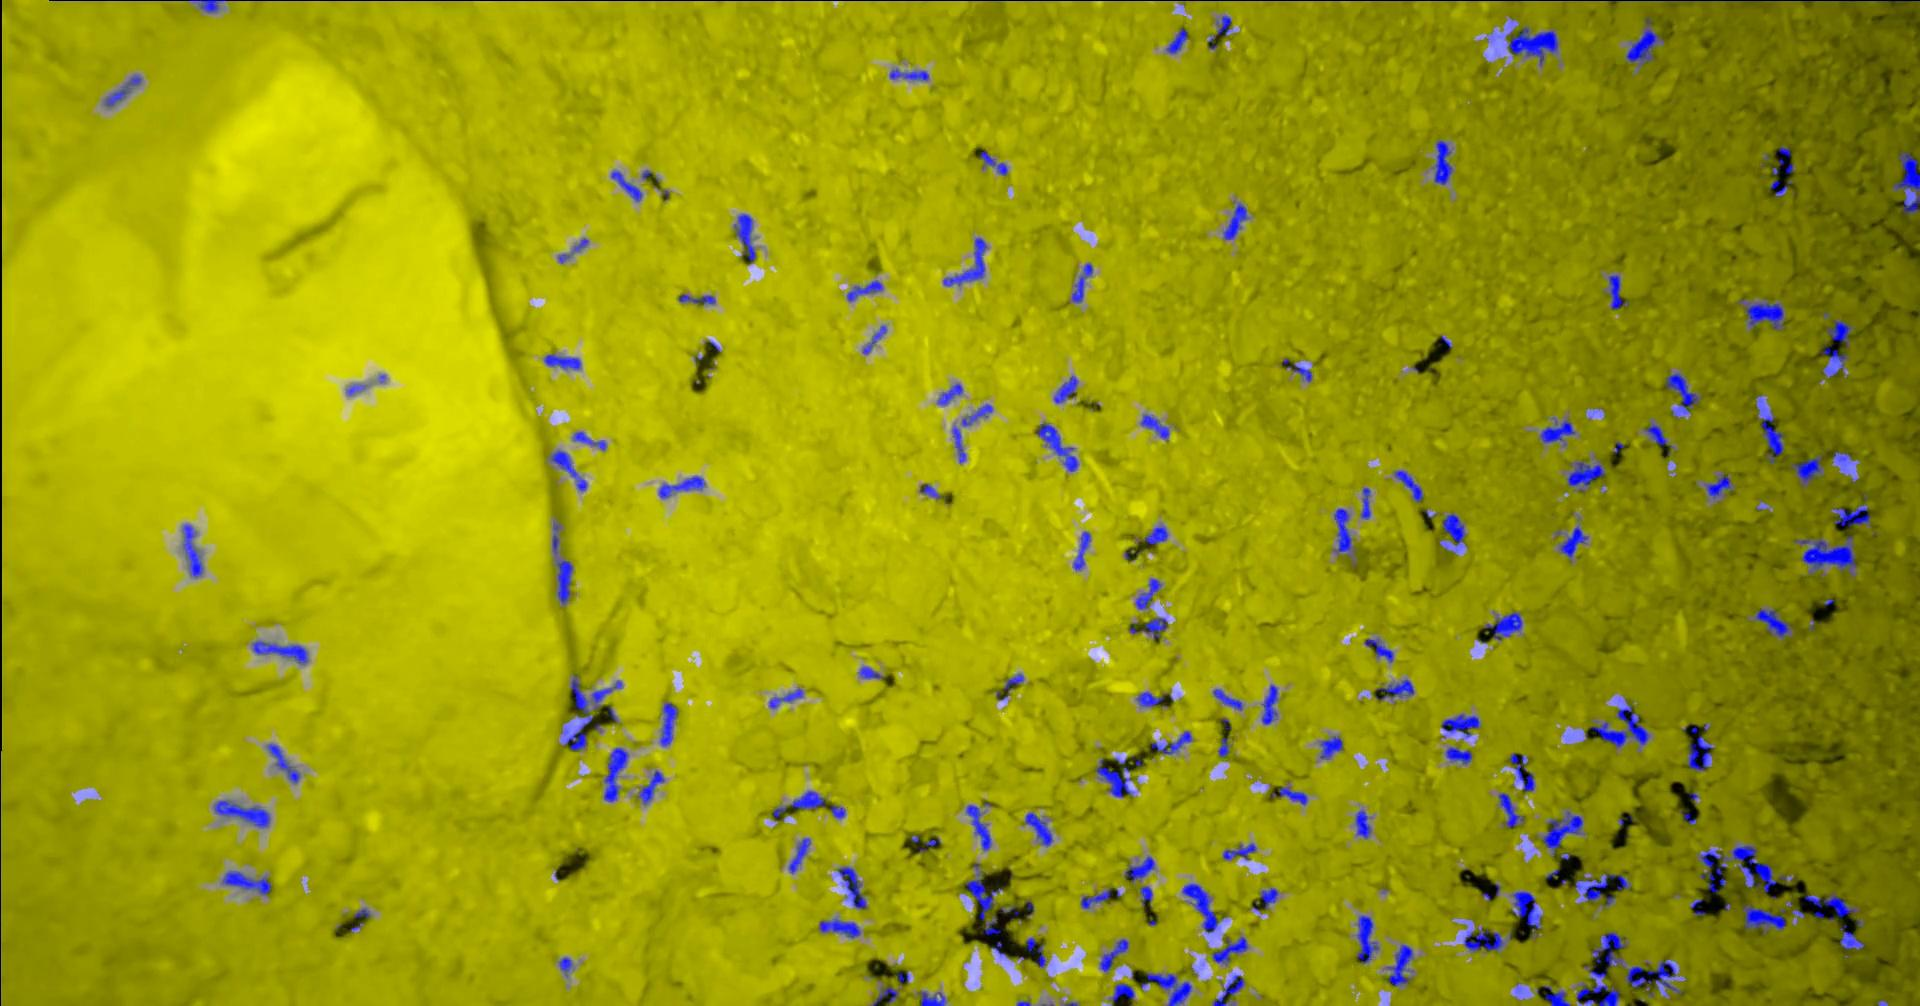ant: (1590, 702, 1650, 747), (564, 674, 593, 749), (1625, 958, 1681, 996), (1505, 27, 1558, 65), (965, 862, 1001, 920), (943, 238, 985, 285), (1037, 423, 1078, 471), (1181, 883, 1218, 932), (1625, 17, 1663, 64), (1542, 810, 1582, 854), (1575, 965, 1619, 1005), (1140, 972, 1191, 1005), (1892, 151, 1919, 213), (772, 790, 825, 821), (1575, 873, 1630, 901), (1803, 893, 1859, 921), (213, 800, 269, 827), (1665, 372, 1698, 417), (550, 450, 585, 490), (1095, 758, 1131, 796), (603, 747, 629, 801), (1511, 890, 1540, 937), (1742, 904, 1785, 934), (267, 743, 298, 782), (837, 866, 866, 908), (1760, 410, 1783, 464), (1591, 931, 1625, 967), (251, 641, 307, 663), (965, 804, 990, 850), (1483, 611, 1523, 640), (1385, 944, 1412, 986), (222, 871, 270, 894), (1755, 608, 1792, 638), (1743, 302, 1783, 329), (1789, 453, 1822, 485), (105, 75, 140, 105), (1688, 727, 1712, 770), (1356, 915, 1378, 963), (734, 213, 756, 260), (1211, 974, 1244, 1005), (1566, 461, 1605, 486), (1509, 752, 1534, 791), (1820, 340, 1848, 376), (1211, 936, 1247, 964), (1150, 730, 1191, 754), (1463, 927, 1503, 951), (610, 170, 641, 201), (183, 525, 202, 575), (1558, 525, 1587, 558), (1098, 937, 1128, 970), (658, 476, 703, 497), (1023, 812, 1051, 845), (590, 680, 621, 709), (1441, 713, 1479, 735), (1497, 793, 1523, 827), (1223, 203, 1247, 239), (1394, 470, 1422, 500), (1070, 263, 1092, 302), (1432, 140, 1451, 184), (637, 770, 663, 803), (1079, 888, 1120, 908), (1832, 504, 1870, 526), (1539, 419, 1575, 442), (846, 279, 883, 301), (1443, 513, 1464, 550), (1135, 578, 1161, 608), (1375, 680, 1413, 700), (1124, 856, 1154, 882), (819, 918, 860, 937), (1333, 508, 1351, 551), (555, 559, 571, 605), (1825, 319, 1853, 345), (978, 150, 1007, 175), (789, 838, 810, 873), (660, 702, 677, 746), (996, 673, 1023, 699), (1364, 638, 1393, 662), (961, 403, 992, 426), (1271, 786, 1307, 805), (862, 325, 886, 353), (1053, 375, 1077, 403), (1140, 414, 1168, 438), (1261, 683, 1277, 724), (1608, 274, 1627, 309), (1073, 531, 1090, 570), (1705, 474, 1732, 498), (1283, 358, 1310, 381), (770, 688, 803, 708), (1211, 688, 1242, 709), (1839, 923, 1863, 949), (1251, 887, 1277, 909), (1025, 937, 1045, 967), (571, 431, 604, 448), (543, 354, 580, 370), (1166, 28, 1187, 53), (1140, 617, 1167, 638), (1543, 984, 1570, 1005), (1319, 735, 1342, 758), (1222, 843, 1256, 859), (937, 384, 963, 404), (1111, 983, 1134, 1005), (1644, 423, 1666, 445), (1137, 691, 1167, 706), (872, 986, 897, 1005), (952, 427, 965, 462), (1445, 746, 1470, 763), (889, 69, 928, 80), (1777, 146, 1793, 173), (1355, 810, 1370, 838), (919, 483, 945, 499), (189, 0, 225, 11), (1144, 526, 1167, 544), (1769, 179, 1792, 196), (678, 293, 715, 304), (919, 991, 945, 1005), (1360, 486, 1370, 520), (983, 915, 999, 935), (858, 666, 883, 678), (917, 837, 938, 851), (1217, 15, 1230, 36), (1217, 737, 1229, 757), (1139, 885, 1152, 906), (1690, 898, 1705, 915), (559, 956, 571, 976), (829, 805, 844, 818), (552, 523, 559, 553), (1832, 451, 1850, 461), (1717, 0, 1778, 1)
